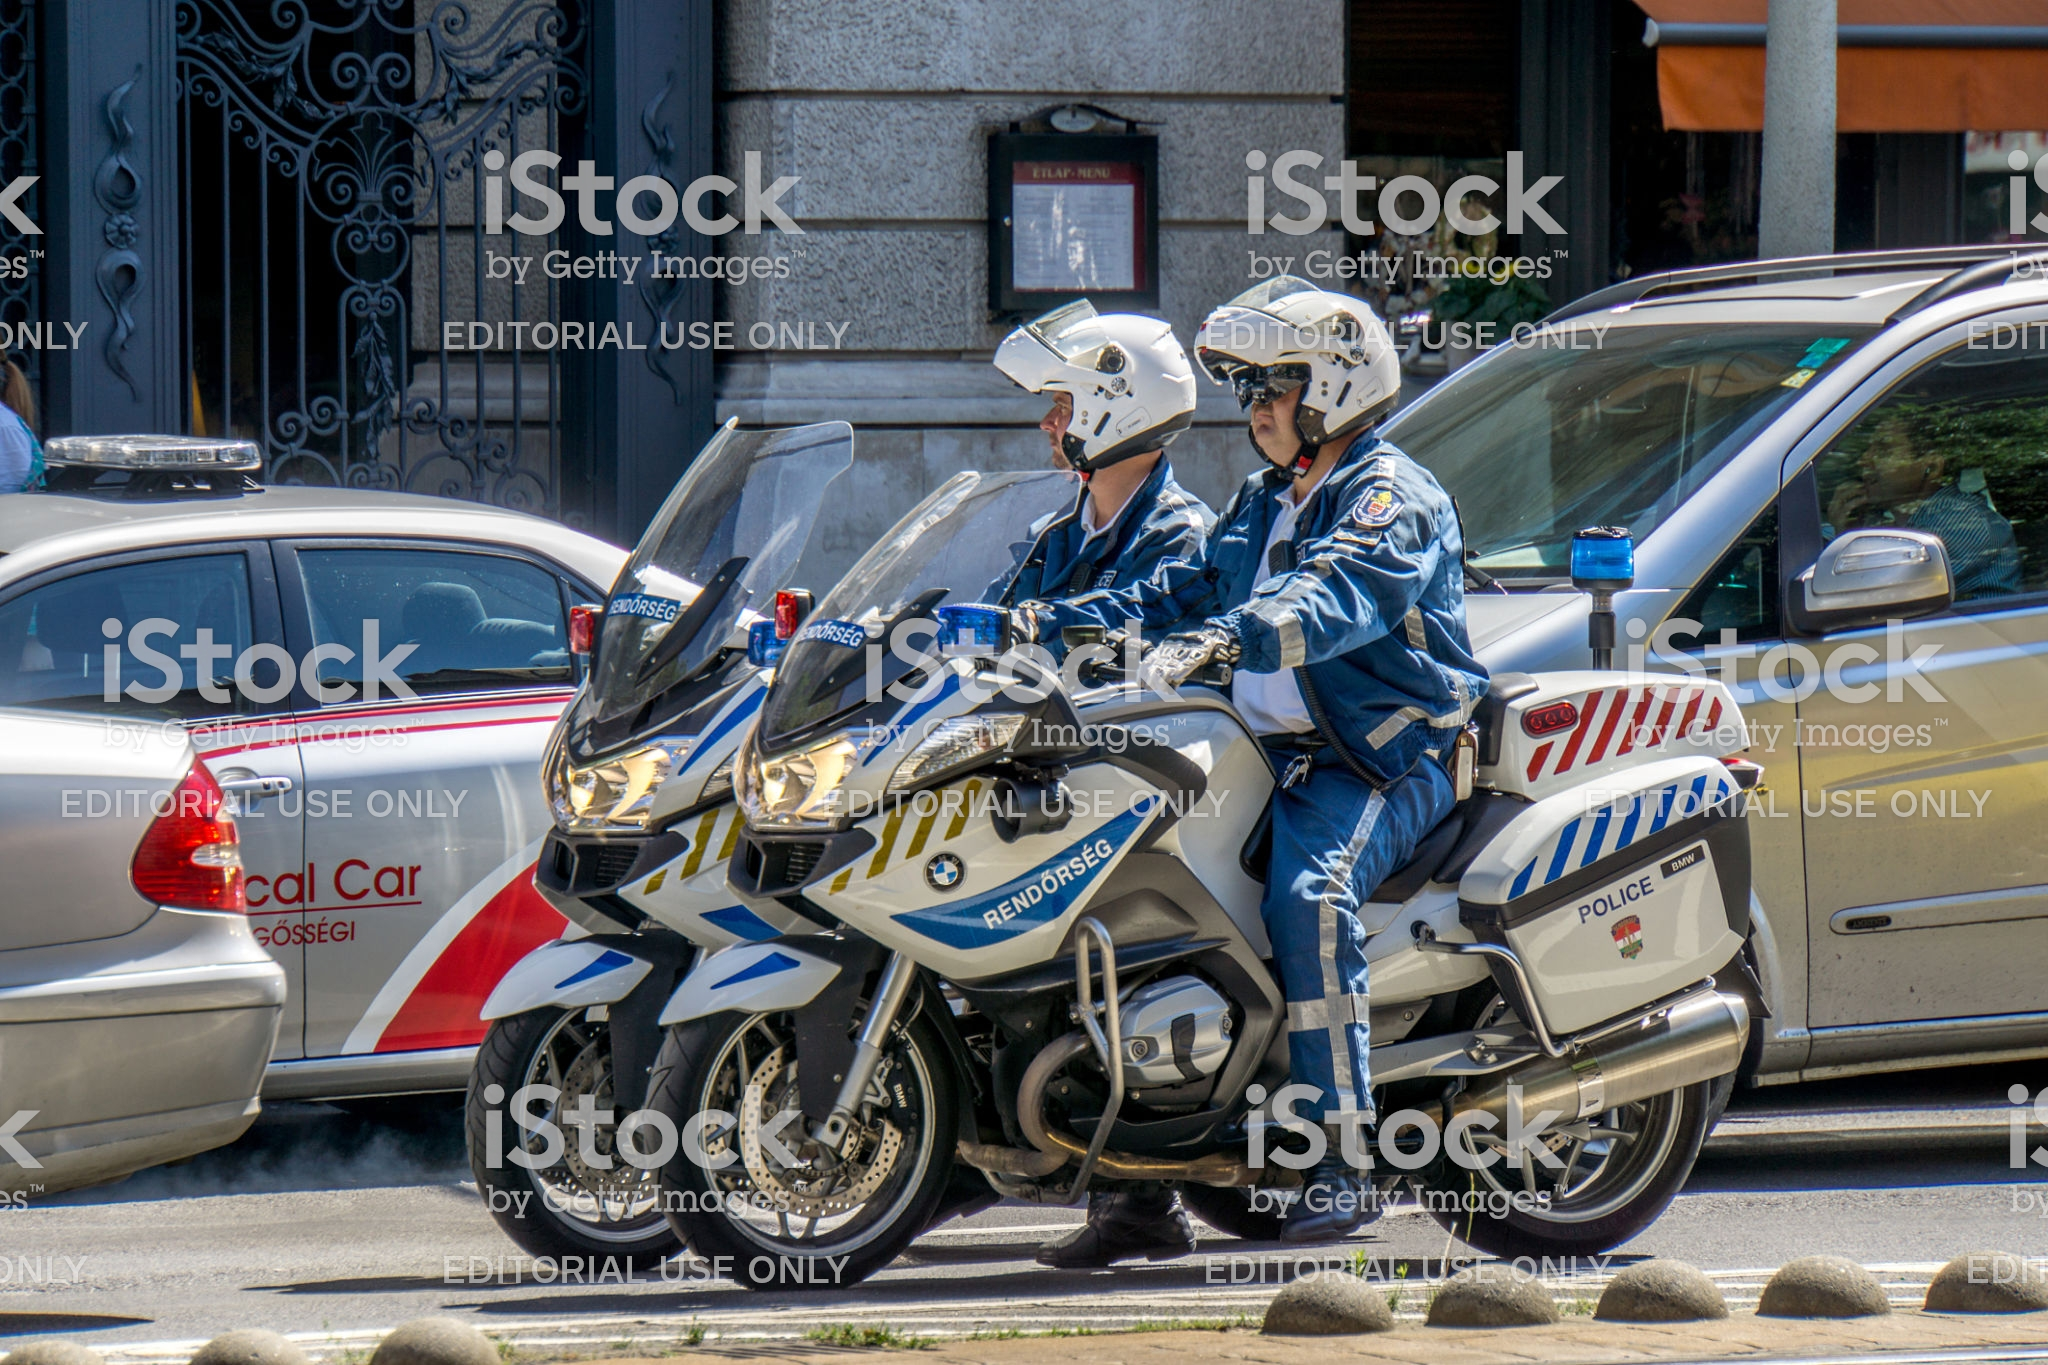helmet: (1195, 265, 1405, 452), (1011, 306, 1194, 471)
